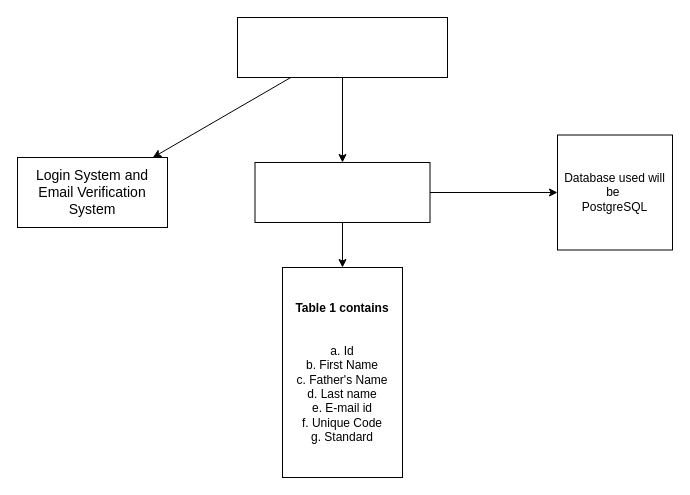
This 690x495 diagram has some shape labels left out. The centre of each missing label's shape, as x and y in pixels:
Integrate the database to store the details of the user: the point at 342,192
Name of the Website: the point at 342,47
